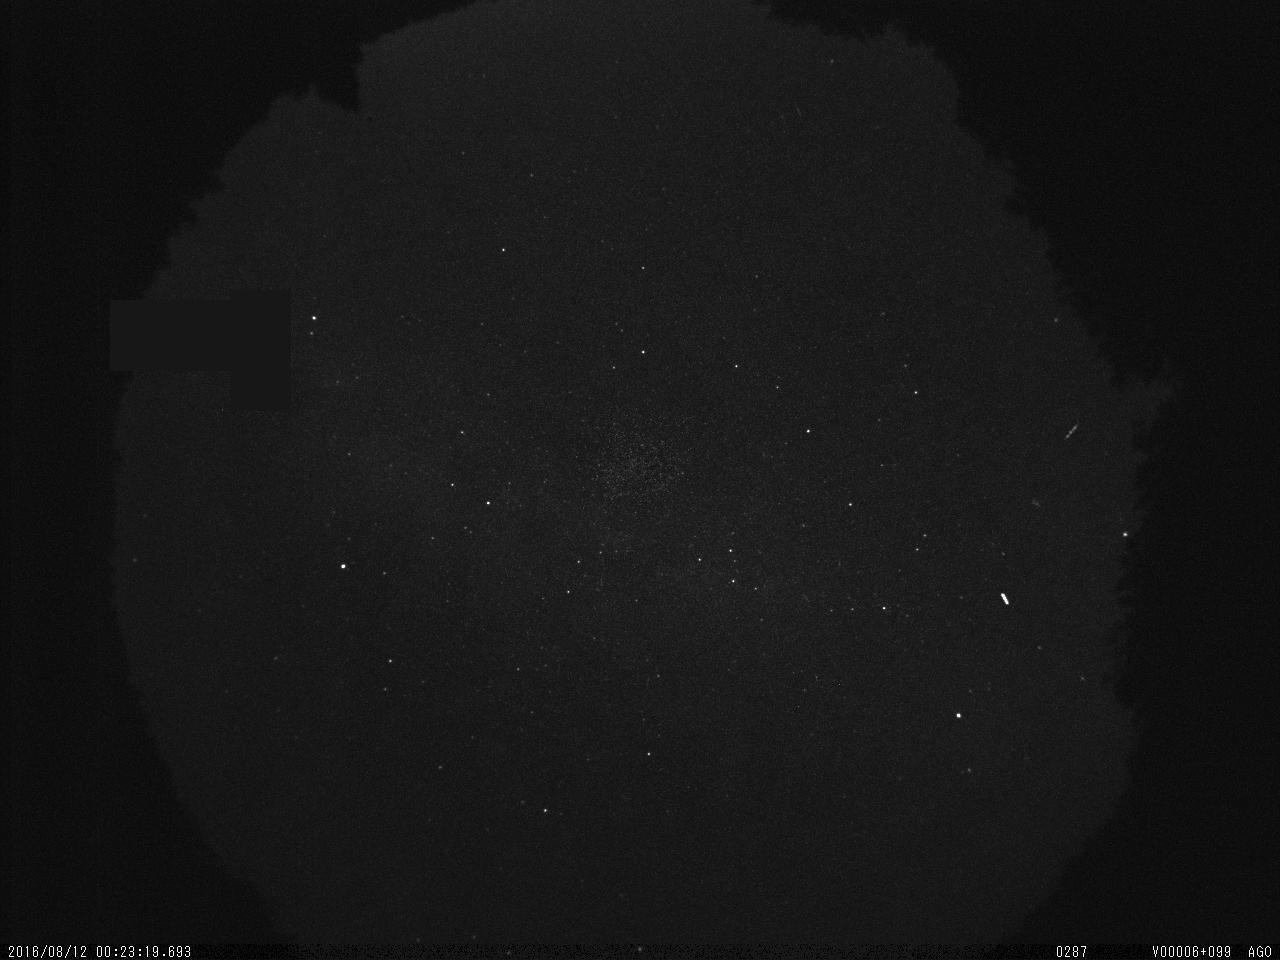Meteor: (1060, 417, 1083, 446)
